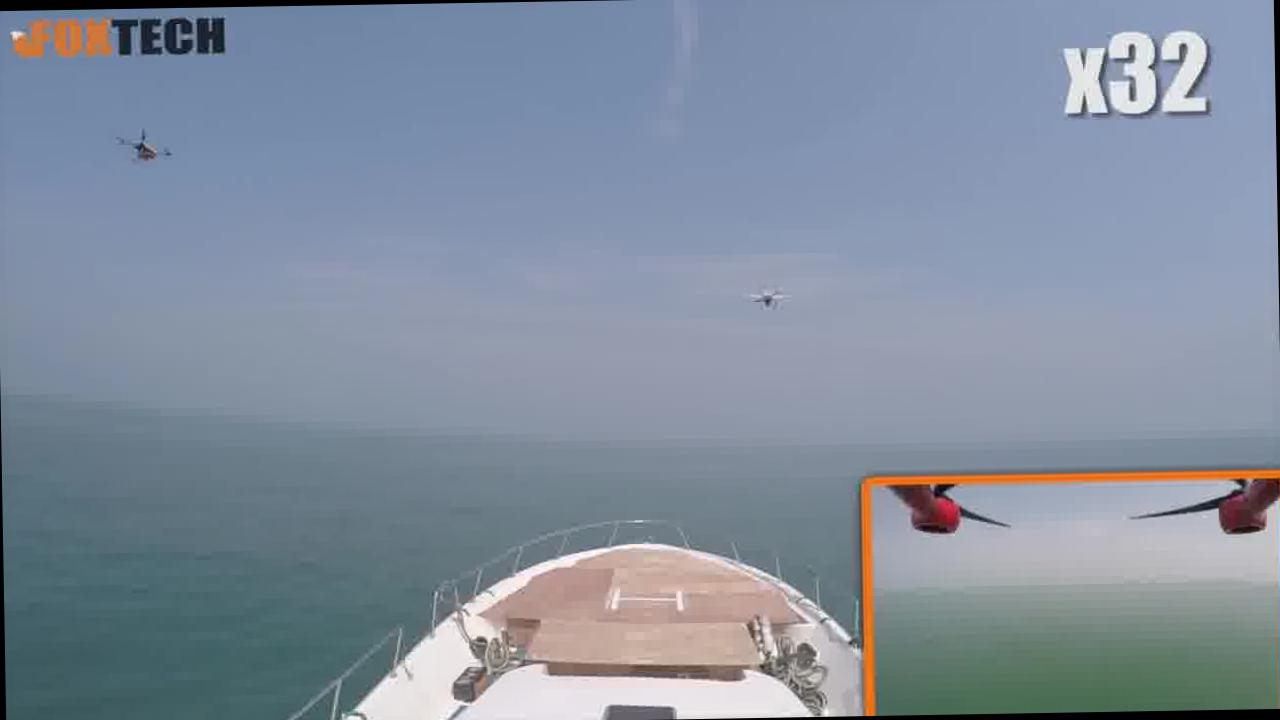drone: (101, 112, 198, 173), (736, 270, 814, 333)
